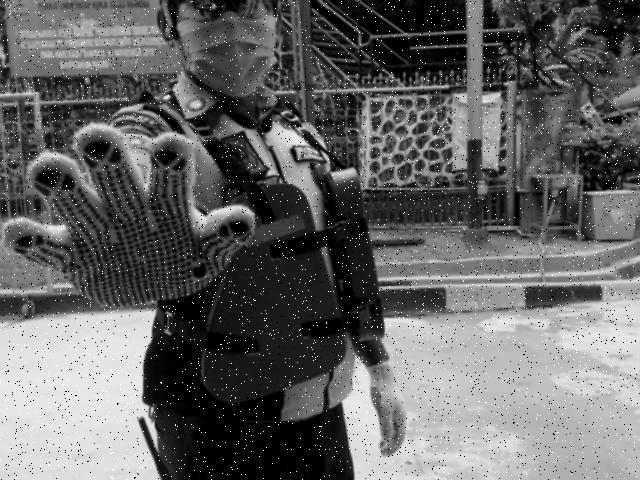glasses: (167, 0, 284, 26)
gloves: (3, 113, 257, 324), (350, 358, 419, 460)
mask: (177, 21, 288, 98)
vest: (197, 163, 389, 407)
